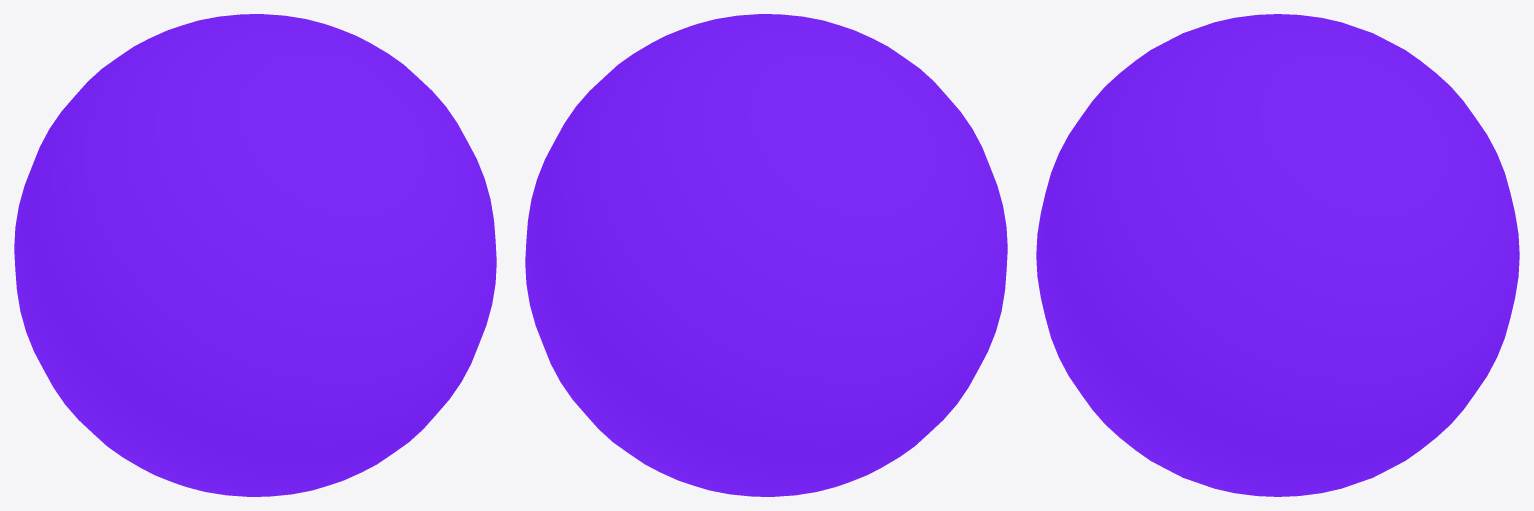
File: noDesBullet01.glb
The picture shows the model from 3 angles, left to right: view 1: azimuth 30°, elevation 25°; view 2: azimuth 150°, elevation 25°; view 3: azimuth 270°, elevation 25°; orthographic projection.
Visible parts, largest first — view 1: NoDesBullet; view 2: NoDesBullet; view 3: NoDesBullet.
Boxes of the visible parts, x1,y1,x2,y2 form: NoDesBullet: [14, 14, 496, 496]; NoDesBullet: [525, 14, 1007, 496]; NoDesBullet: [1036, 14, 1519, 496].
Size of the model in its own units: 6 by 6 by 6.
